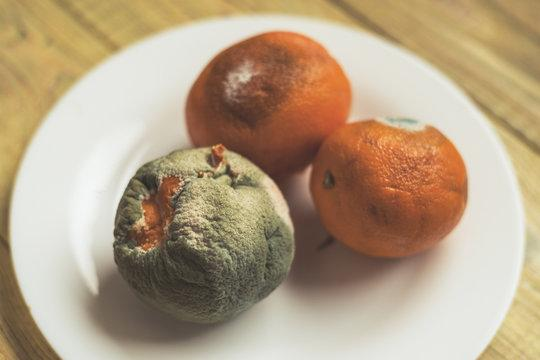Orange Rotten: (109, 135, 307, 336), (176, 6, 361, 183), (307, 100, 472, 261)
